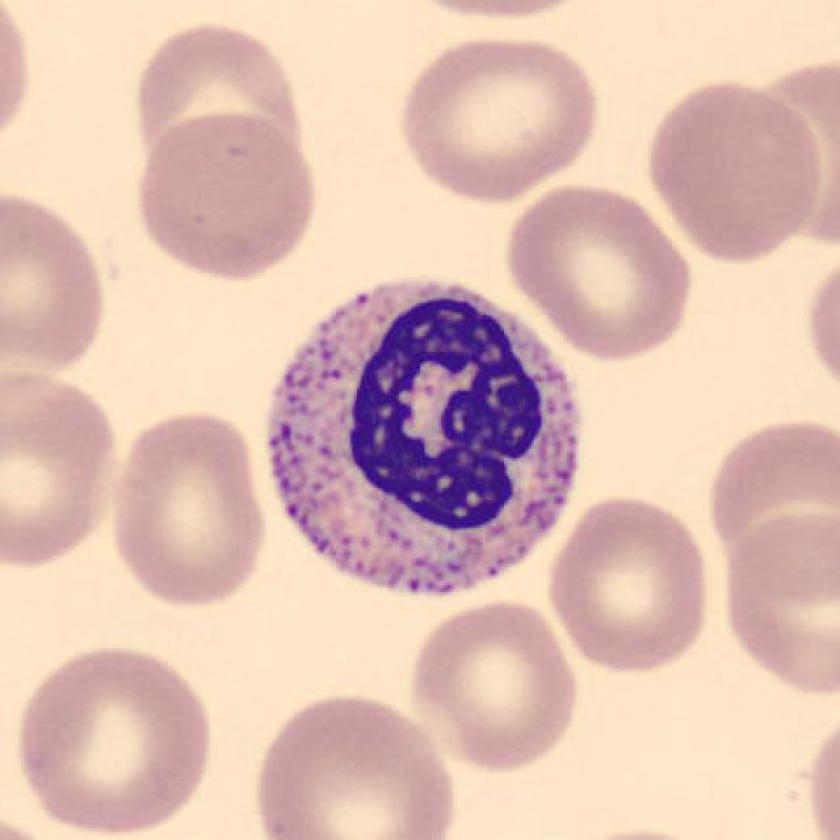neutrophil: (266, 283, 577, 593)
